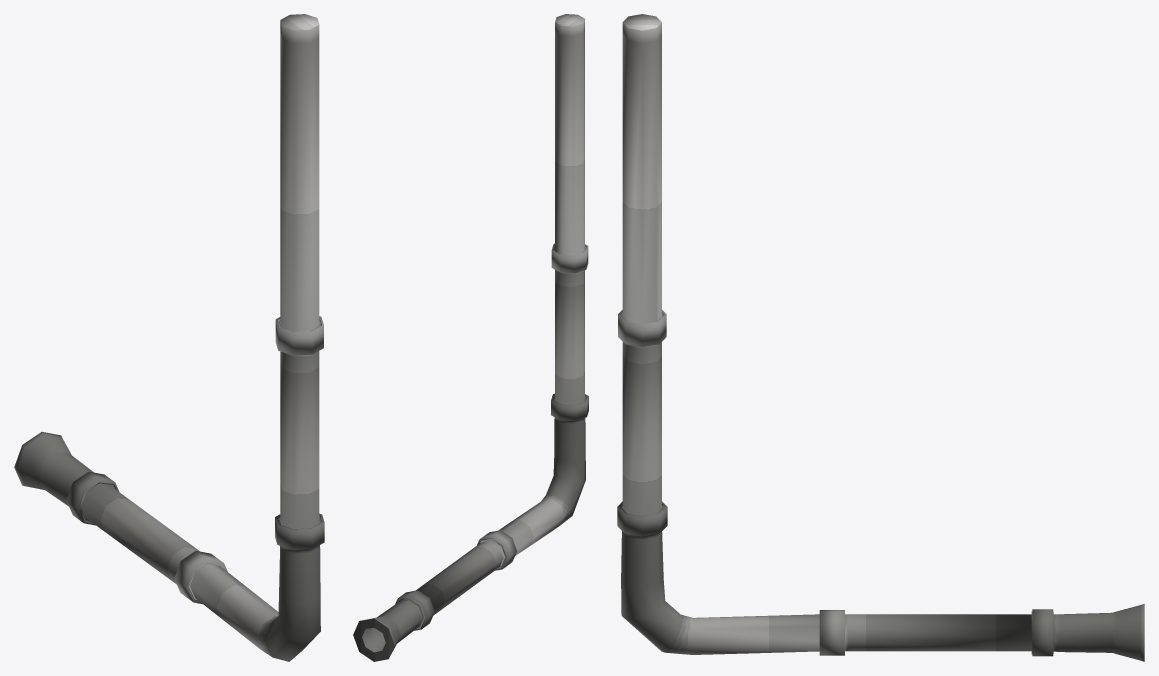
The model's file is DL_Obj_Level5_Pipe.fbx.
3 views of the same model, side by side, from view 1: azimuth 30°, elevation 25°; view 2: azimuth 150°, elevation 25°; view 3: azimuth 270°, elevation 25° (orthographic). The views are drawn at different scales.
Parts seen in each view (by area): view 1: Level5_Pipe; view 2: Level5_Pipe; view 3: Level5_Pipe.
Boxes of the visible parts, x1,y1,x2,y2 form: Level5_Pipe: [14, 14, 324, 661]; Level5_Pipe: [353, 14, 588, 661]; Level5_Pipe: [617, 14, 1144, 661].
Size of the model in its own units: 56.93 by 647 by 484.
